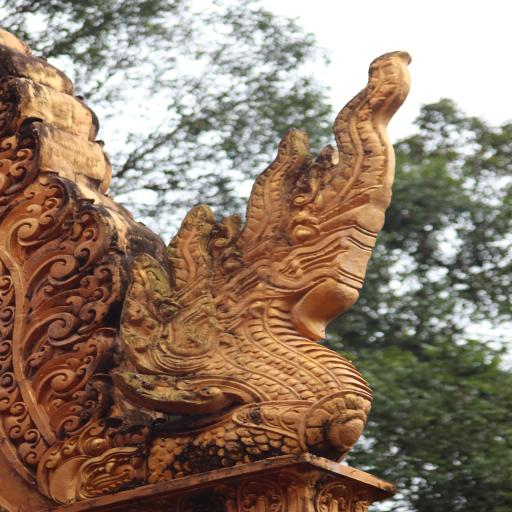lua: (9, 263, 120, 351), (14, 209, 115, 290), (34, 332, 119, 394), (0, 175, 69, 251), (53, 382, 121, 430), (0, 121, 38, 192), (19, 430, 48, 460), (8, 399, 29, 437), (0, 376, 20, 406), (0, 356, 10, 378)
ran: (123, 58, 412, 471), (41, 427, 147, 503)
